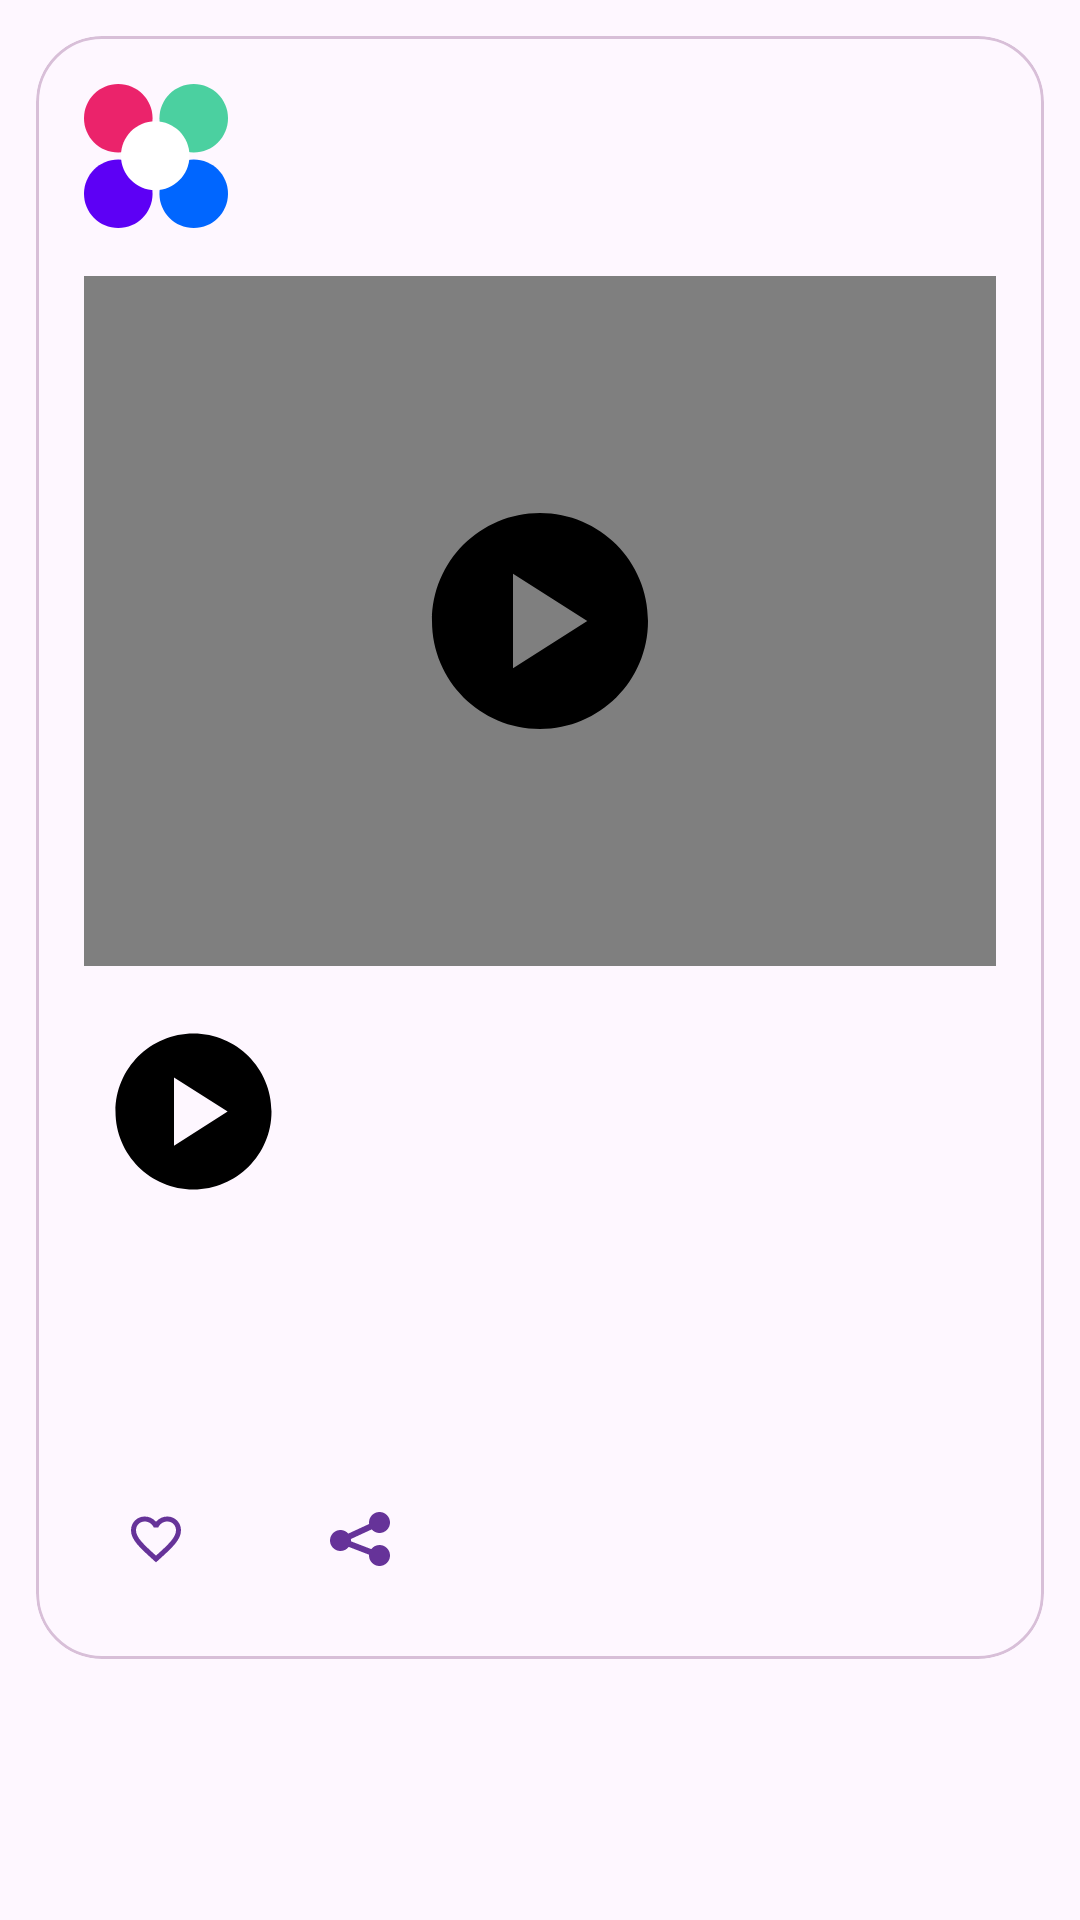

Screen size 1080x1920. Icon name, then its center in pixels as (x,y):
like: (156,1539)
play: (540,621), (193,1111)
shared: (360,1539)
